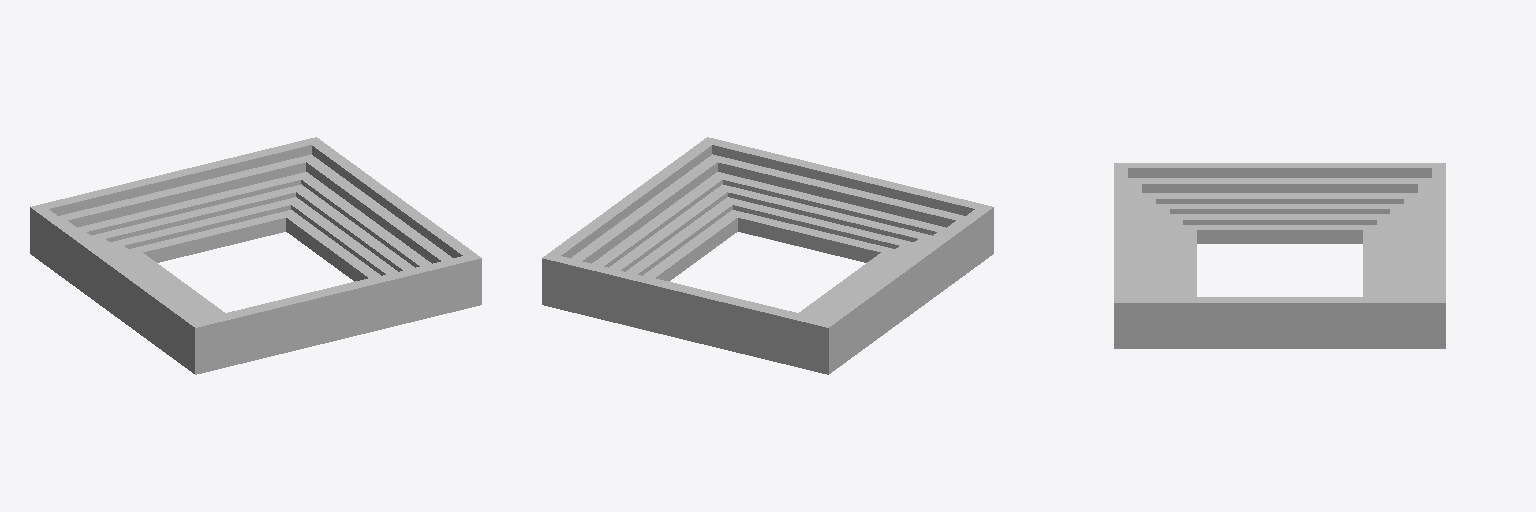
File: environment.obj
The picture shows the model from 3 angles: view 1: azimuth 30°, elevation 25°; view 2: azimuth 150°, elevation 25°; view 3: azimuth 270°, elevation 25°; orthographic projection.
Visible parts, largest first — view 1: Plane.001; view 2: Plane.001; view 3: Plane.001.
Boxes of the visible parts, x1=… form: Plane.001: x1=30, y1=137, x2=481, y2=374; Plane.001: x1=542, y1=137, x2=993, y2=374; Plane.001: x1=1114, y1=163, x2=1445, y2=348.
Size of the model in its own units: 32 by 5 by 32.